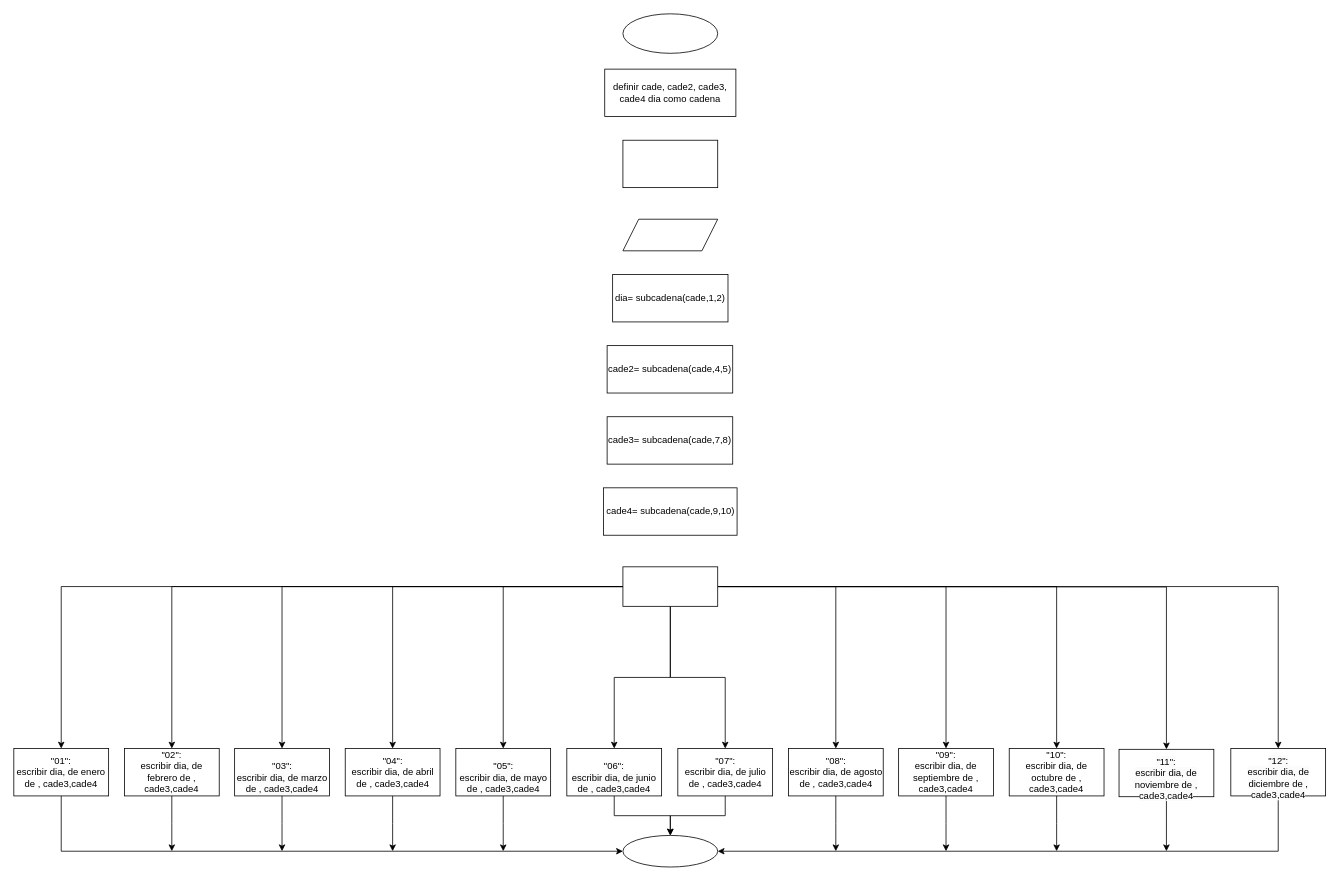
Some shapes in this 1340 by 881 pixel diagram are drawn without their labels. The box of each missing label's shape, as (x1, y1, x2, y2) in pixels:
escribir la fecha en formato 00/00/0000: (622, 139, 718, 188)
fin: (622, 835, 718, 867)
inicio: (622, 13, 718, 53)
leer cade: (622, 218, 718, 251)
segun cade2 hacer: (622, 566, 718, 606)
